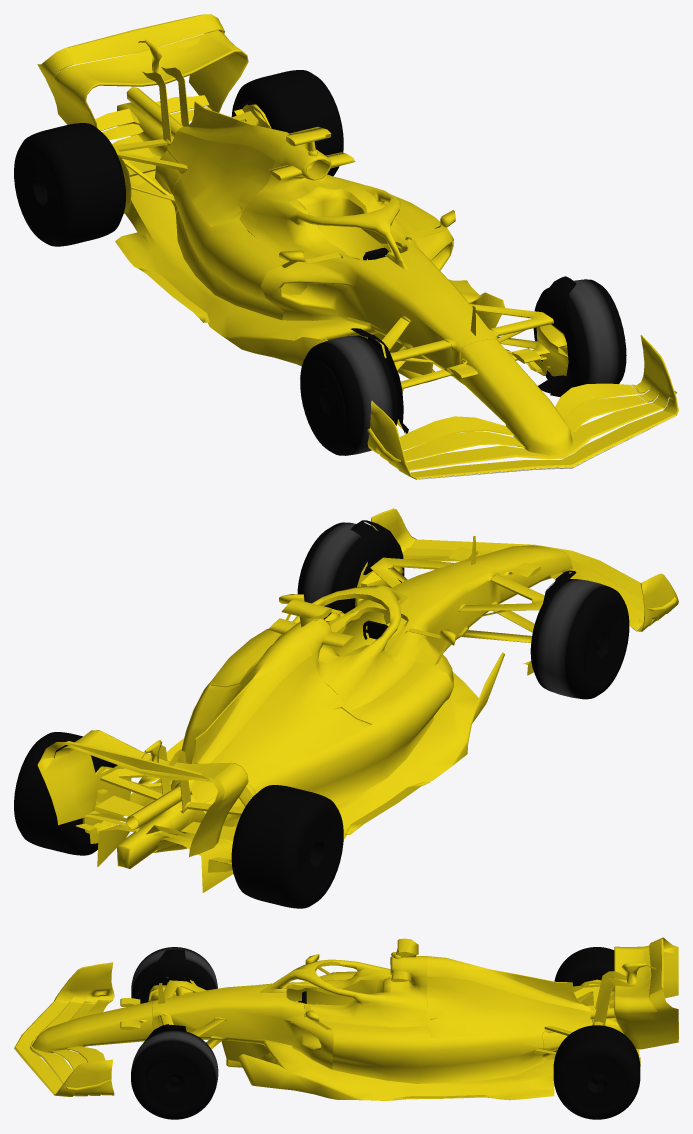
The model's file is f1-car-2.glb.
The picture shows the model from 3 angles, top to bottom: view 1: azimuth 30°, elevation 25°; view 2: azimuth 150°, elevation 25°; view 3: azimuth 270°, elevation 25°; orthographic projection. The views are drawn at different scales.
Visible parts, largest first — view 1: x6_safetycell_shadow, x0_tyre_br, x6_nosecone_shadow, x0_tyre_fr, x6_frontspoiler_fm_shadow.001, x0_tyre_bl, x0_tyre_fl, x6_frontflap_fr_shadow, x6_frontflap_fl_shadow, x6_wheel_fr_shadow, x6_wheel_br_shadow, x6_suspension_fin_fl_shadow (+4 smaller); view 2: x6_safetycell_shadow, x0_tyre_br, x0_tyre_fr, x0_tyre_bl, x0_tyre_fl, x6_frontspoiler_fm_shadow.001, x6_nosecone_shadow, x6_wheel_fr_shadow, x6_wheel_br_shadow, x6_frontwing_fr_01_shadow, x6_suspension_fin_fl_shadow, x6_frontwing_fl_01_shadow; view 3: x6_safetycell_shadow, x0_tyre_bl, x0_tyre_fl, x6_nosecone_shadow, x6_frontspoiler_fm_shadow.001, x6_wheel_bl_shadow, x6_wheel_fl_shadow, x6_frontwing_fr_01_shadow, x0_tyre_br, x6_frontwing_fl_01_shadow, x0_tyre_fr, x6_suspension_fin_fr_shadow (+2 smaller).
Part boxes in pixels (box(x1,y1,x2,y2)): x6_safetycell_shadow: box(37, 14, 568, 429); x0_tyre_br: box(14, 123, 125, 246); x6_nosecone_shadow: box(448, 339, 573, 455); x0_tyre_fr: box(300, 335, 398, 455); x6_frontspoiler_fm_shadow.001: box(406, 384, 675, 478); x0_tyre_bl: box(231, 70, 343, 176); x0_tyre_fl: box(533, 279, 626, 388); x6_frontflap_fr_shadow: box(399, 416, 516, 461); x6_frontflap_fl_shadow: box(555, 383, 646, 431); x6_wheel_fr_shadow: box(304, 362, 345, 440); x6_wheel_br_shadow: box(19, 153, 58, 230); x6_suspension_fin_fl_shadow: box(538, 276, 577, 396); x6_safetycell_shadow: box(37, 536, 544, 892); x0_tyre_br: box(231, 785, 343, 908); x0_tyre_fr: box(530, 579, 629, 699); x0_tyre_bl: box(14, 732, 117, 855); x0_tyre_fl: box(297, 522, 393, 619); x6_frontspoiler_fm_shadow.001: box(402, 539, 644, 630); x6_nosecone_shadow: box(448, 545, 573, 603); x6_wheel_fr_shadow: box(584, 606, 624, 683); x6_wheel_br_shadow: box(298, 815, 338, 892); x6_frontwing_fr_01_shadow: box(636, 573, 678, 631); x6_suspension_fin_fl_shadow: box(350, 520, 404, 582); x6_frontwing_fl_01_shadow: box(371, 508, 416, 552); x6_safetycell_shadow: box(148, 937, 678, 1100); x0_tyre_bl: box(553, 1025, 640, 1119); x0_tyre_fl: box(131, 1030, 218, 1119); x6_nosecone_shadow: box(31, 997, 152, 1052); x6_frontspoiler_fm_shadow.001: box(14, 1000, 112, 1094); x6_wheel_bl_shadow: box(568, 1056, 625, 1110); x6_wheel_fl_shadow: box(145, 1056, 201, 1109); x6_frontwing_fr_01_shadow: box(54, 962, 114, 1003); x0_tyre_br: box(554, 947, 614, 986); x6_frontwing_fl_01_shadow: box(54, 1059, 114, 1096); x0_tyre_fr: box(131, 947, 217, 998); x6_suspension_fin_fr_shadow: box(136, 949, 191, 1003).
Bounding box in the file's own units: 201 × 116 × 548.
